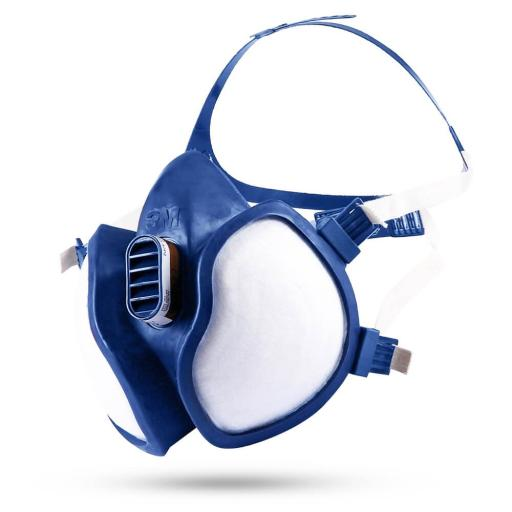mask: (48, 128, 450, 479)
